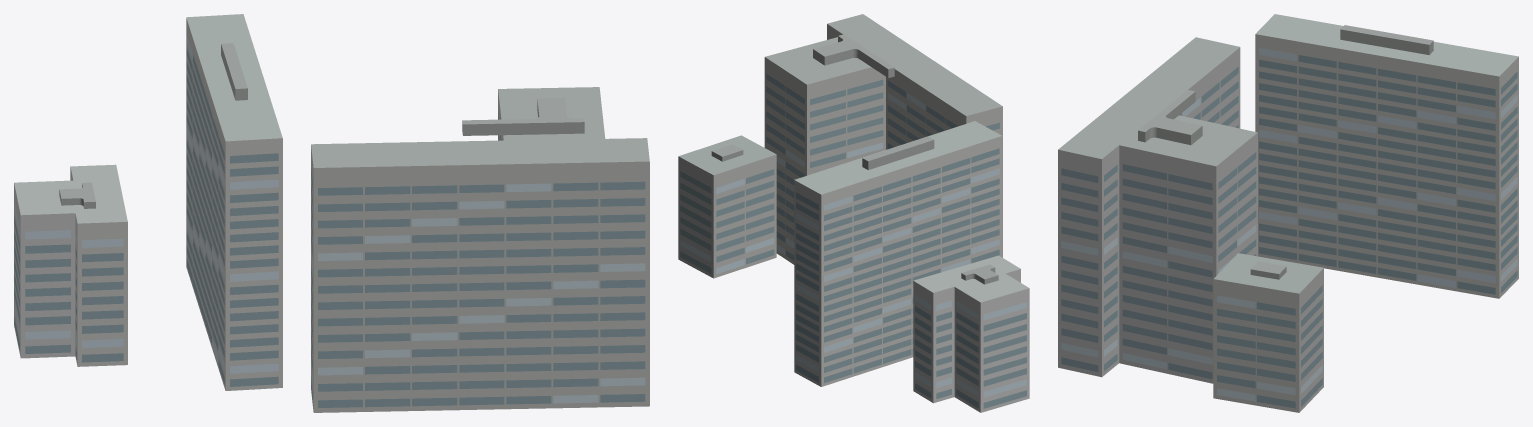
The model's file is apt-a13472201.glb.
3 renders of one model, left to right at view 1: azimuth 30°, elevation 25°; view 2: azimuth 150°, elevation 25°; view 3: azimuth 270°, elevation 25°, orthographic. The views are drawn at different scales.
Parts seen in each view (by area): view 1: apt-a13472201; view 2: apt-a13472201; view 3: apt-a13472201.
Boxes of the visible parts, x1,y1,x2,y2 form: apt-a13472201: (14,14,649,412); apt-a13472201: (678,14,1029,412); apt-a13472201: (1058,14,1518,412).
Size of the model in its own units: 114 by 54 by 96.96.
